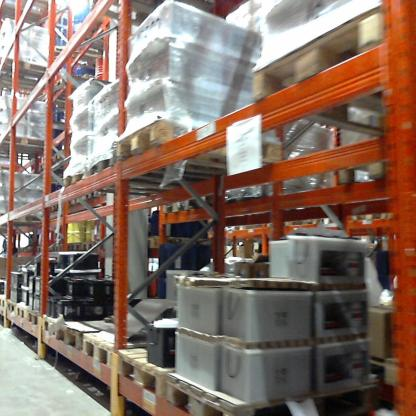pallet: (255, 7, 405, 124), (162, 364, 376, 410), (117, 120, 281, 173), (83, 158, 230, 200), (49, 167, 148, 206), (327, 144, 397, 195), (79, 325, 151, 373), (117, 344, 171, 395), (2, 54, 62, 88), (56, 308, 92, 351), (2, 130, 53, 160), (157, 196, 211, 221), (139, 236, 216, 252), (276, 215, 332, 235), (4, 6, 56, 26), (227, 217, 269, 236), (348, 205, 386, 222), (40, 310, 60, 340), (15, 299, 33, 324), (28, 302, 41, 328), (3, 296, 18, 317), (1, 294, 7, 306)
